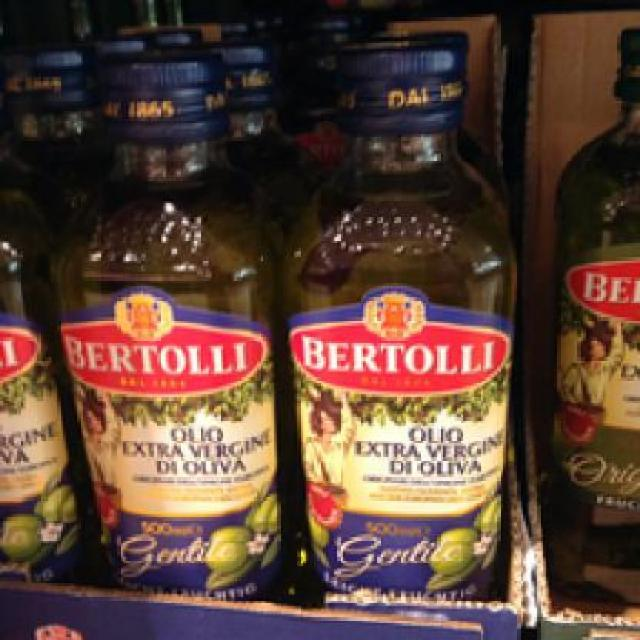Oil: (280, 34, 517, 603), (43, 51, 286, 600)
